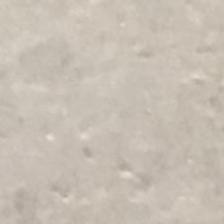Non_Crack: (11, 18, 202, 209)
